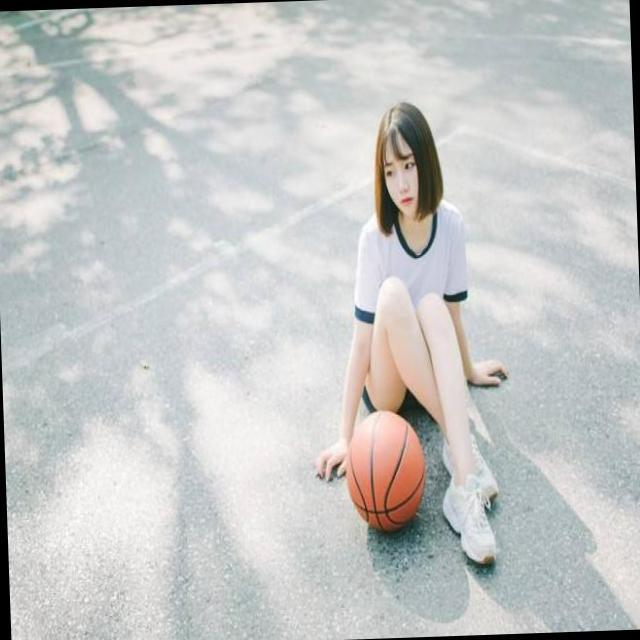ball: (344, 409, 426, 534)
